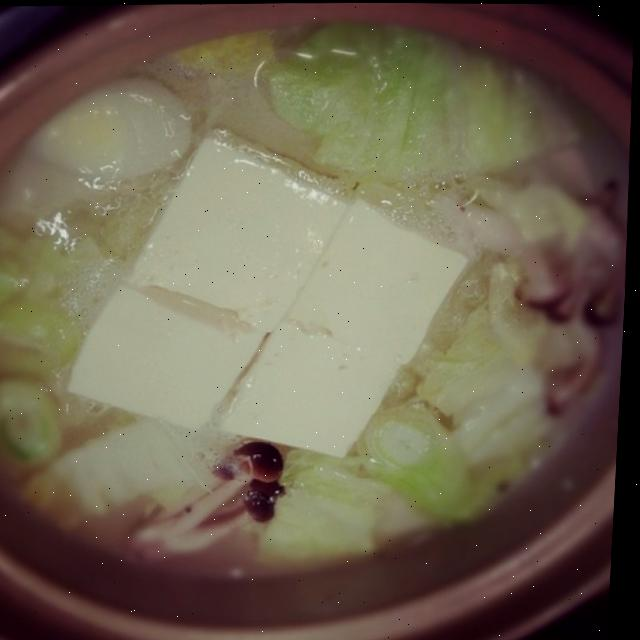豆腐料理: (0, 23, 622, 609)
